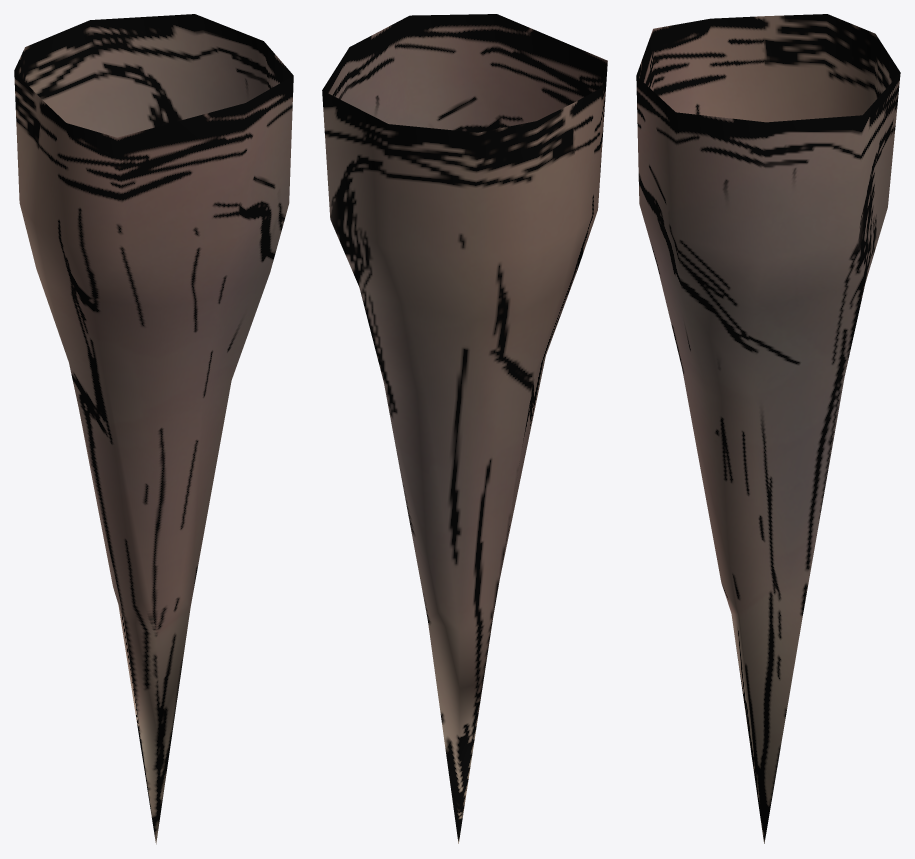
Rendered from Stalagmite_02.fbx.
3 renders of one model, left to right at view 1: azimuth 30°, elevation 25°; view 2: azimuth 150°, elevation 25°; view 3: azimuth 270°, elevation 25°, orthographic.
Visible parts, largest first — view 1: Rock01:Mesh5; view 2: Rock01:Mesh5; view 3: Rock01:Mesh5.
Part boxes in pixels (x1=…): Rock01:Mesh5: x1=14, y1=14, x2=293, y2=844; Rock01:Mesh5: x1=322, y1=14, x2=607, y2=843; Rock01:Mesh5: x1=636, y1=14, x2=900, y2=843.
Size of the model in its own units: 1.85 by 5.81 by 1.78.
